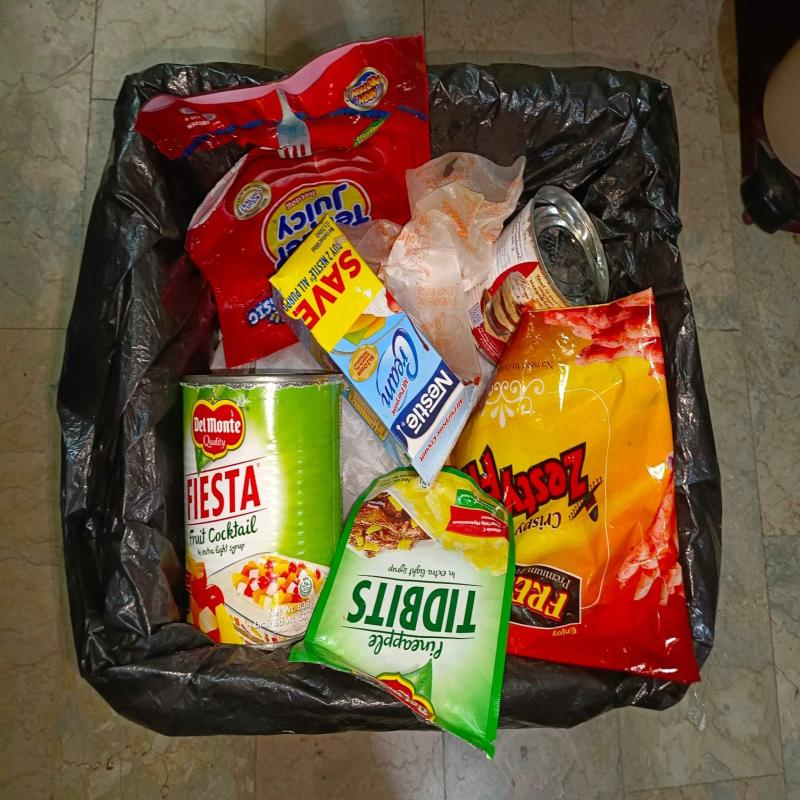aluminum: (180, 374, 343, 647), (464, 185, 609, 365)
food wrapper: (448, 289, 700, 686), (133, 35, 431, 369), (288, 467, 516, 760)
paper: (338, 153, 526, 385)
uht carton: (269, 216, 479, 491)
